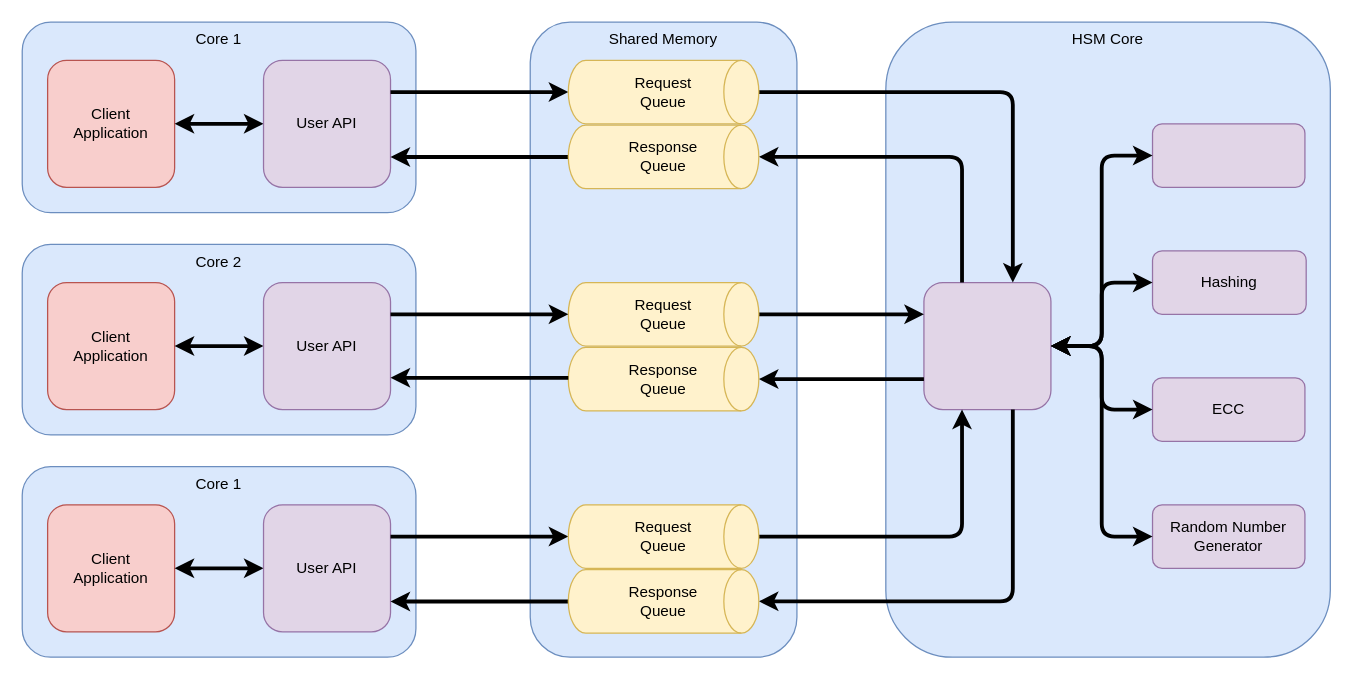
The diagram is 1353 pixels wide and 692 high, and some of its shapes have lost their labels. The shapes that lost their labels are listed below. From the top down, each one's centre as x and y in pixels, then its label:
the point at 1228,155: AES
the point at 987,345: Sindri Core
